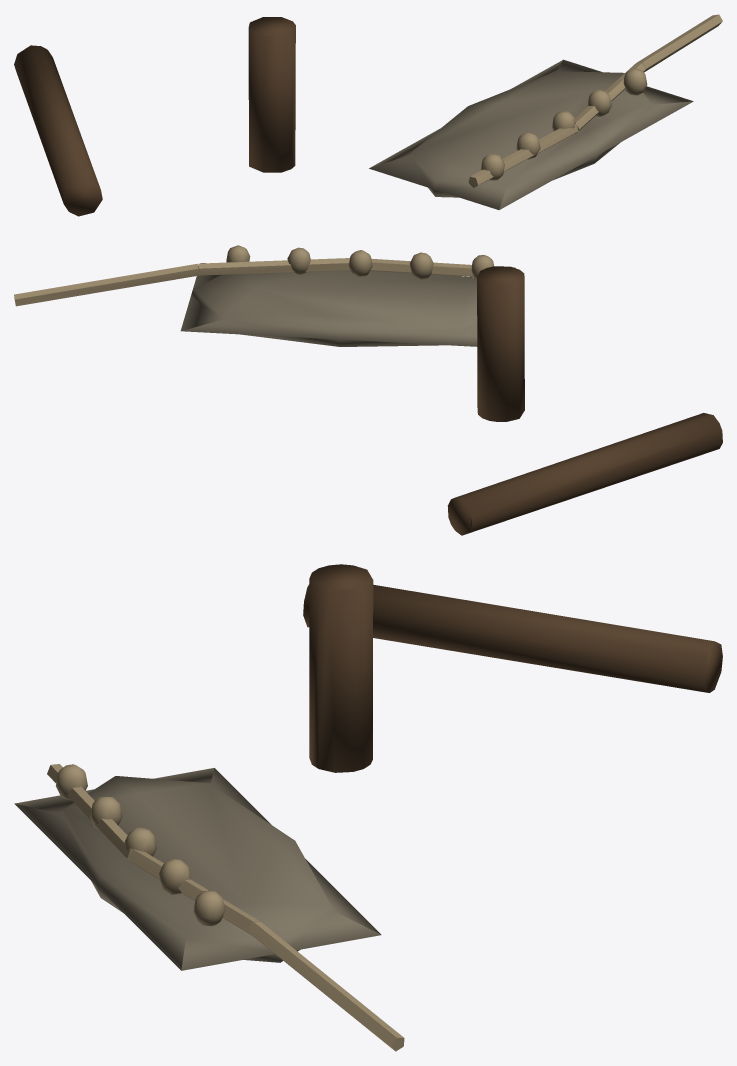
Rendered from knot_board_b_lod1.glb.
3 renders of one model, top to bottom at view 1: azimuth 30°, elevation 25°; view 2: azimuth 150°, elevation 25°; view 3: azimuth 270°, elevation 25°, orthographic. The views are drawn at different scales.
Parts seen in each view (by area): view 1: Surface.001; view 2: Surface.001; view 3: Surface.001.
Boxes of the visible parts, x1=… form: Surface.001: x1=14, y1=14, x2=722, y2=216; Surface.001: x1=14, y1=245, x2=722, y2=535; Surface.001: x1=14, y1=564, x2=722, y2=1051.
Bounding box in the file's own units: 1.84 × 0.35 × 1.24.
